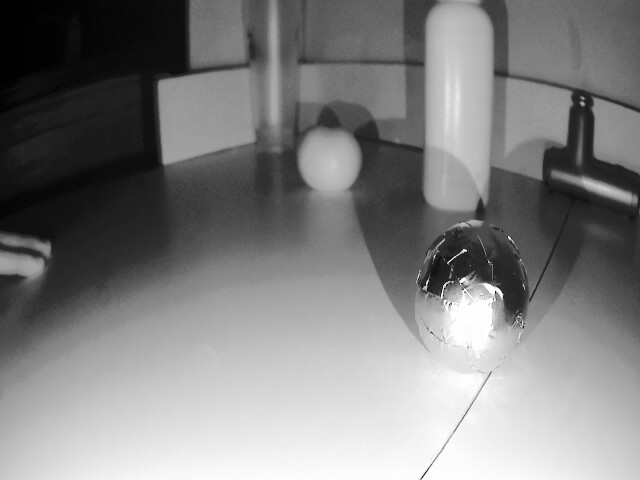silver: (407, 207, 542, 393)
